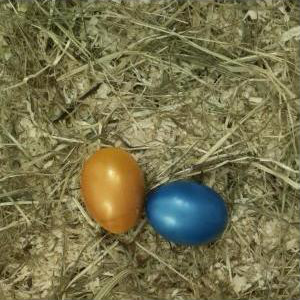egg: (80, 147, 146, 233), (146, 180, 227, 248)
